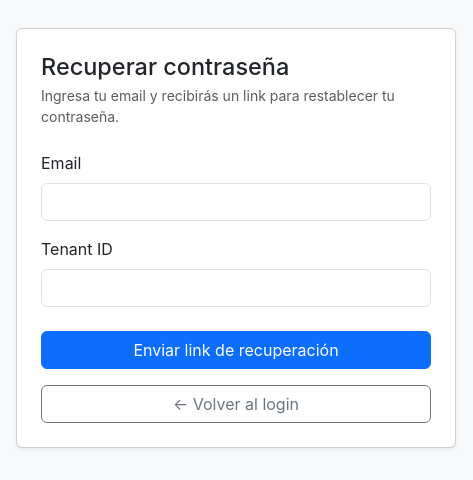
ForgotPasswordPage › muestra error de validación si el email tiene formato inválido
Type "no-es-email" into the field labelled "Email" at [236, 202], box 41,183 -> 431,221
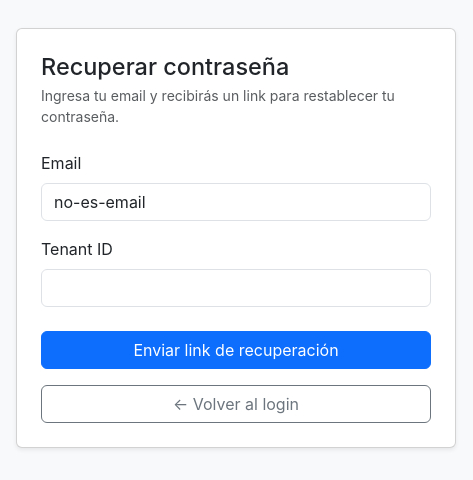
Type "acme" into the field labelled "Tenant ID" at [236, 288], box 41,269 -> 431,307
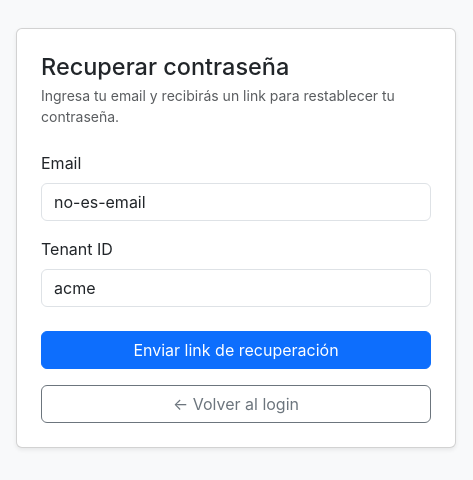
Click the button "Enviar link de recuperación" at [236, 350], box 41,331 -> 431,369
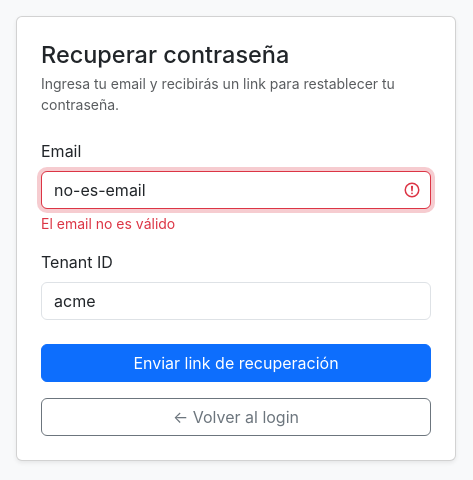
Now the text "El email no es válido" is shown, box 41,215 -> 175,232
